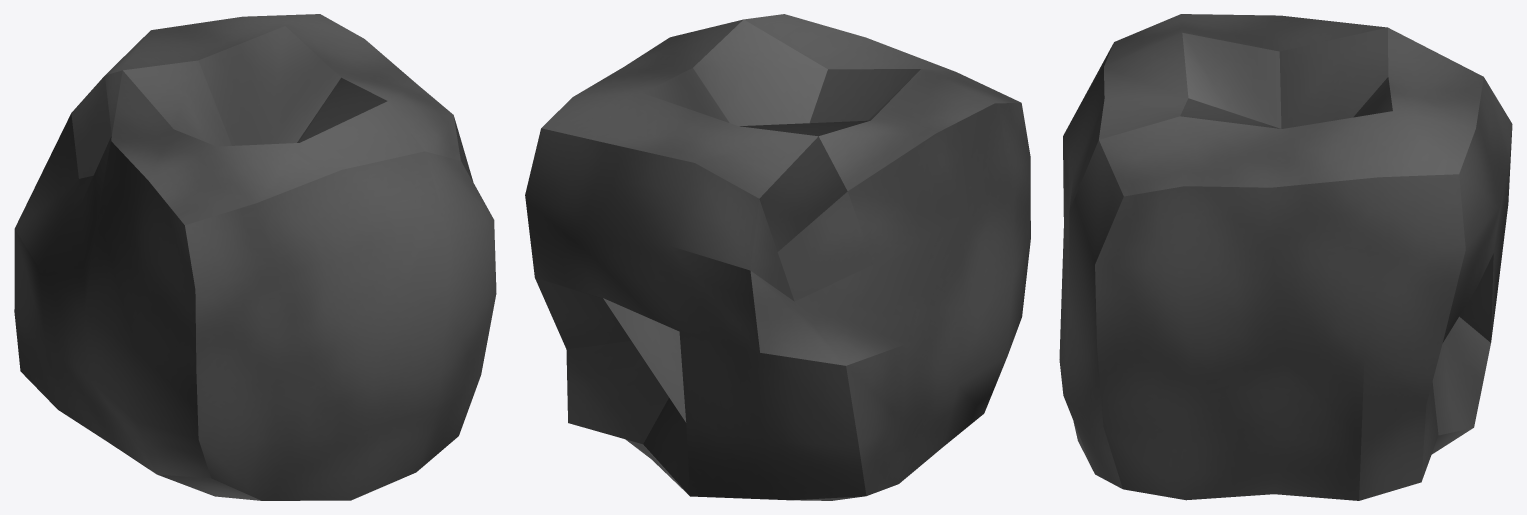
The model's file is GAMEJAMPUFFER - ForeGround Rock 8.fbx.
3 views of the same model, side by side, from view 1: azimuth 30°, elevation 25°; view 2: azimuth 150°, elevation 25°; view 3: azimuth 270°, elevation 25° (orthographic). The views are drawn at different scales.
Parts seen in each view (by area): view 1: Cube.007; view 2: Cube.007; view 3: Cube.007.
Part boxes in pixels (x1=…): Cube.007: x1=14, y1=14, x2=496, y2=500; Cube.007: x1=525, y1=14, x2=1030, y2=500; Cube.007: x1=1059, y1=14, x2=1512, y2=500.
Size of the model in its own units: 176 by 175 by 187.
1 material, 1 textured.
